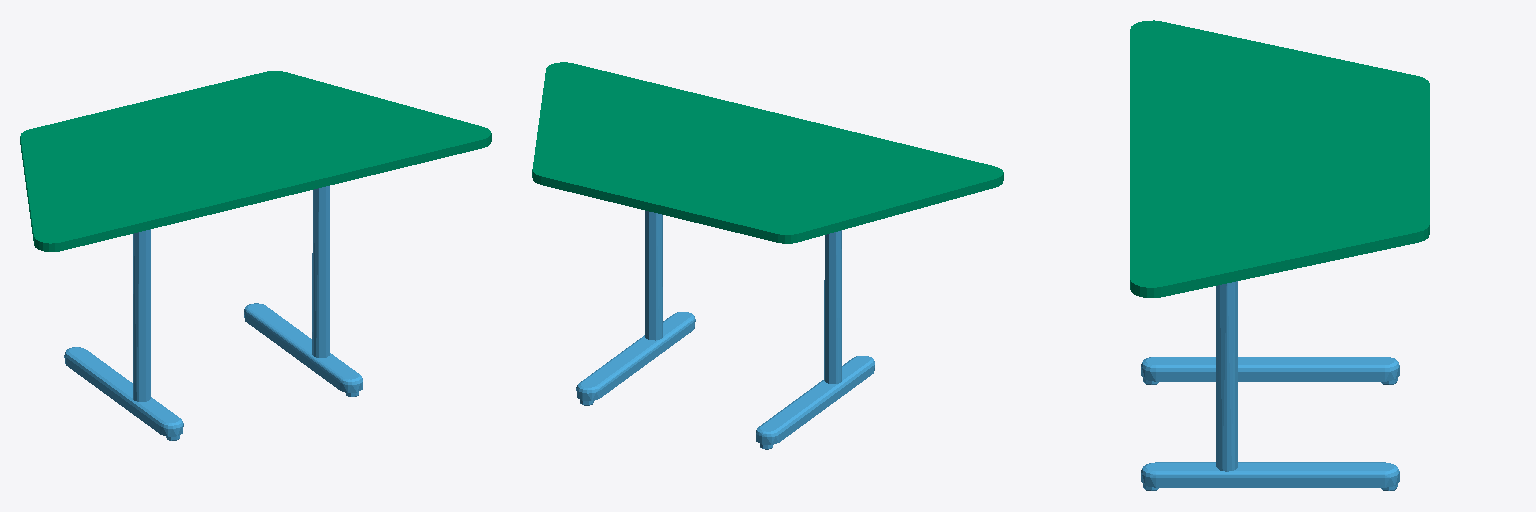
robot.urdf — kokuyo_mt_gfdm10:
<?xml version="1.0"?>
<!-- generated by ros2/make_package.py (room13bc) -->
<robot name="kokuyo_mt_gfdm10">
  <link name="world" />
  <joint name="world_to_desk" type="fixed">
    <parent link="world" />
    <child link="desk_base" />
    <origin xyz="0.000180 0.094671 0.272014" rpy="0.000000 0.000000 0.000000" />
  </joint>
  <link name="desk_base">
    <visual>
      <origin xyz="0 0 0" rpy="0 0 0" />
      <geometry>
        <mesh filename="package://room13bc_description/meshes/desk_base.obj" />
      </geometry>
    </visual>
    <collision>
      <origin xyz="-0.29118 0.05533 -0.23551" rpy="0 0 0" />
      <geometry>
        <box size="0.07000 0.60000 0.03700" />
      </geometry>
    </collision>
    <collision>
      <origin xyz="-0.29118 -0.21967 -0.26301" rpy="0 0 0" />
      <geometry>
        <box size="0.04000 0.04000 0.01800" />
      </geometry>
    </collision>
    <collision>
      <origin xyz="-0.29118 0.33033 -0.26301" rpy="0 0 0" />
      <geometry>
        <box size="0.04000 0.04000 0.01800" />
      </geometry>
    </collision>
    <collision>
      <origin xyz="-0.29118 -0.04767 0.37949" rpy="0 0 0" />
      <geometry>
        <box size="0.07000 0.09000 0.08300" />
      </geometry>
    </collision>
    <collision>
      <origin xyz="0.29082 0.05533 -0.23551" rpy="0 0 0" />
      <geometry>
        <box size="0.07000 0.60000 0.03700" />
      </geometry>
    </collision>
    <collision>
      <origin xyz="0.29082 -0.21967 -0.26301" rpy="0 0 0" />
      <geometry>
        <box size="0.04000 0.04000 0.01800" />
      </geometry>
    </collision>
    <collision>
      <origin xyz="0.29082 0.33033 -0.26301" rpy="0 0 0" />
      <geometry>
        <box size="0.04000 0.04000 0.01800" />
      </geometry>
    </collision>
    <collision>
      <origin xyz="0.29082 -0.04767 0.37949" rpy="0 0 0" />
      <geometry>
        <box size="0.07000 0.09000 0.08300" />
      </geometry>
    </collision>
    <collision>
      <origin xyz="-0.00018 -0.04467 0.32799" rpy="0 0 0" />
      <geometry>
        <box size="0.58200 0.04000 0.04000" />
      </geometry>
    </collision>
    <collision>
      <origin xyz="-0.29118 -0.04467 0.06049" rpy="0 0 0" />
      <geometry>
        <cylinder radius="0.02540" length="0.55500" />
      </geometry>
    </collision>
    <collision>
      <origin xyz="0.29082 -0.04467 0.06049" rpy="0 0 0" />
      <geometry>
        <cylinder radius="0.02540" length="0.55500" />
      </geometry>
    </collision>
    <inertial>
      <origin xyz="-0.0001802858792 -0.001476356545 0.00289659324" rpy="0 0 0" />
      <mass value="14" />
      <inertia ixx="1.13533" ixy="1.95614e-08" ixz="-7.04546e-08" iyy="2.02375" iyz="-0.148746" izz="1.32802" />
    </inertial>
  </link>
  <link name="desk_top">
    <visual>
      <origin xyz="0 0 0" rpy="0 0 0" />
      <geometry>
        <mesh filename="package://room13bc_description/meshes/desk_top.obj" />
      </geometry>
    </visual>
    <collision>
      <origin xyz="0 0 0" rpy="0 0 0" />
      <geometry>
        <mesh filename="package://room13bc_description/meshes/desk_top_collision.stl" />
      </geometry>
    </collision>
    <inertial>
      <origin xyz="-0.3586 0.139089503 0.0135" rpy="0 0 0" />
      <mass value="20" />
      <inertia ixx="0.778239" ixy="-1.01582e-16" ixz="-1.38352e-17" iyy="2.49489" iyz="9.7095e-19" izz="3.2707" />
    </inertial>
  </link>
  <joint name="desk_hinge" type="revolute">
    <parent link="desk_base" />
    <child link="desk_top" />
    <origin xyz="0.358420 -0.094671 0.420986" rpy="0.000000 0.000000 0.000000" />
    <axis xyz="-1 0 0" />
    <limit lower="-1.5708" upper="0" effort="10" velocity="3.14" />
    <dynamics damping="2.0" friction="0.5" />
  </joint>
</robot>

--- Render facts (derived) ---
The picture shows the robot from 3 angles, left to right: view 1: azimuth 30°, elevation 25°; view 2: azimuth 150°, elevation 25°; view 3: azimuth 270°, elevation 25°; orthographic projection.
Model kokuyo_mt_gfdm10 with 3 links and 2 joints (1 revolute, 1 fixed), rooted at world, posed all joints at 0.
Visible links, largest first — view 1: desk_top, desk_base; view 2: desk_top, desk_base; view 3: desk_top, desk_base.
Boxes of the visible links, left/top/right/bottom form: desk_top: left=20, top=71, right=491, bottom=251; desk_base: left=64, top=186, right=362, bottom=440; desk_top: left=532, top=62, right=1003, bottom=243; desk_base: left=576, top=211, right=874, bottom=449; desk_top: left=1130, top=20, right=1429, bottom=297; desk_base: left=1141, top=281, right=1399, bottom=490.
Size in the robot's own frame: 1.47 by 0.695 by 0.72 metres.
Meshes: 2 distinct files referenced, 2 mesh visuals loaded (2 OBJ).
